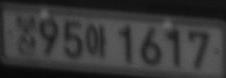1: (164, 27, 186, 67), (115, 23, 136, 63)
5: (62, 19, 84, 59)
6: (139, 25, 163, 66)
7: (186, 29, 210, 69)
9: (39, 16, 58, 54)
부산_V: (15, 14, 38, 54)
아: (84, 22, 107, 57)
